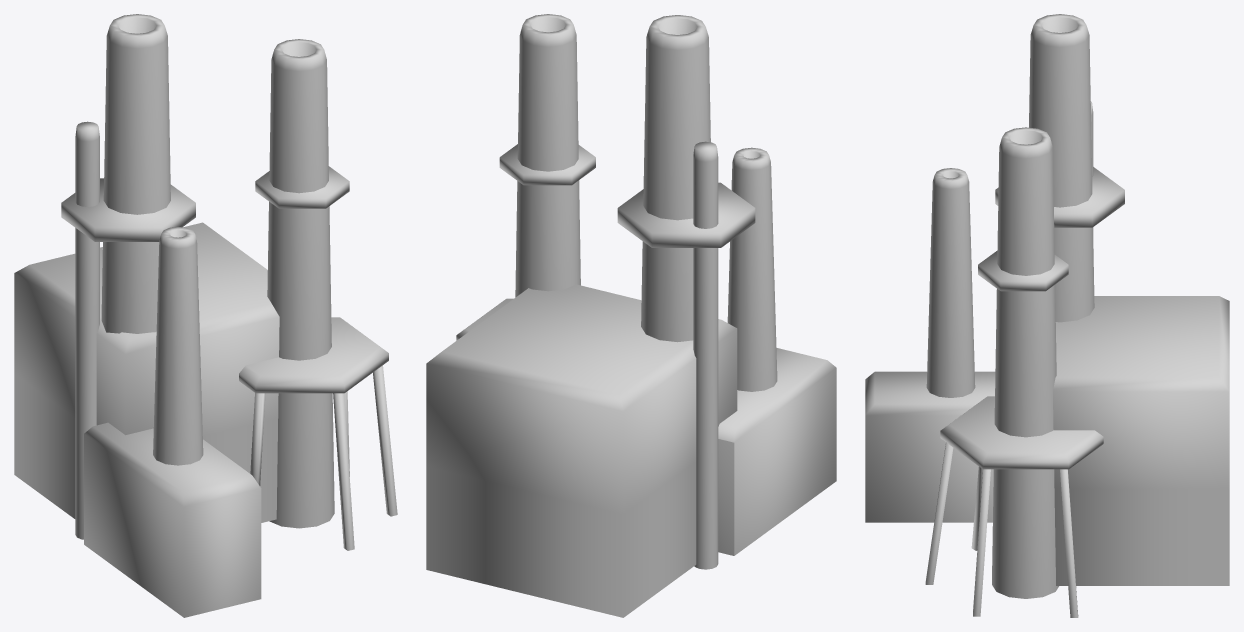
The model's file is building_3_02.FBX.
The picture shows the model from 3 angles, left to right: view 1: azimuth 30°, elevation 25°; view 2: azimuth 150°, elevation 25°; view 3: azimuth 270°, elevation 25°; orthographic projection. The views are drawn at different scales.
Parts seen in each view (by area): view 1: Cube; view 2: Cube; view 3: Cube.
Boxes of the visible parts, x1=… form: Cube: x1=14, y1=14, x2=397, y2=617; Cube: x1=426, y1=14, x2=836, y2=617; Cube: x1=865, y1=14, x2=1229, y2=617.
Bounding box in the file's own units: 38.65 × 67.98 × 45.7.
